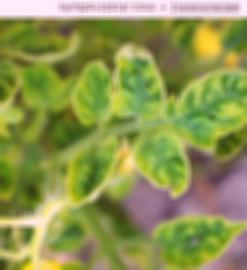Tomato leaf yellow virus: (166, 65, 247, 144), (154, 205, 247, 270), (109, 40, 171, 130), (135, 125, 198, 202), (64, 131, 113, 217)
